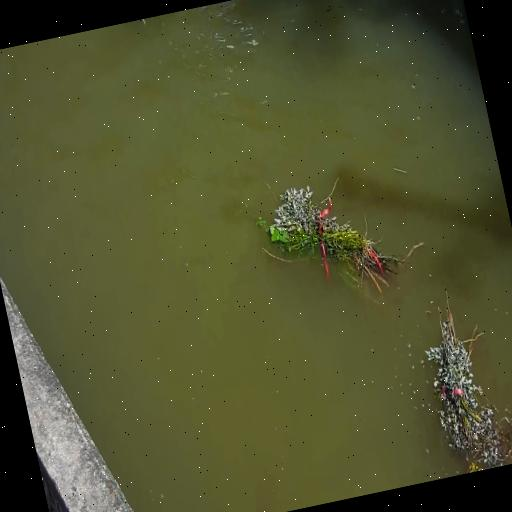twig: (252, 160, 422, 310), (409, 280, 512, 474)
